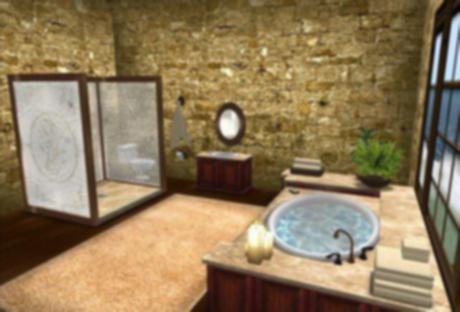Ducha: (18, 71, 163, 227)
Lavamanos: (264, 189, 378, 276)
